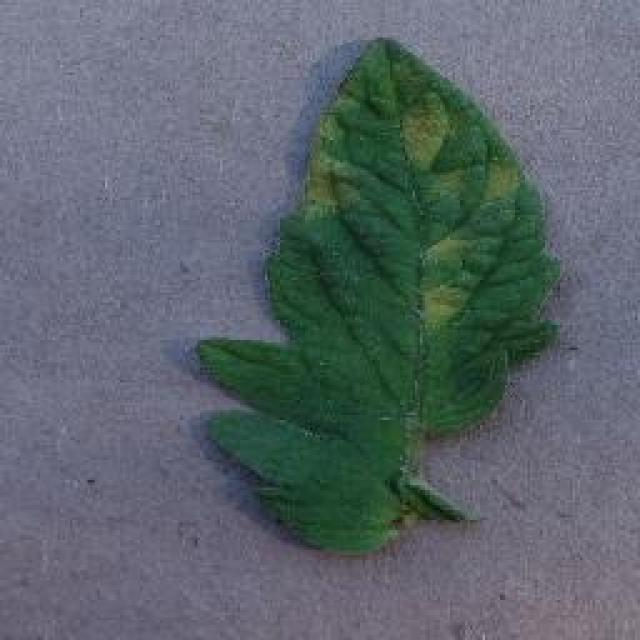Tomato mold leaf: (188, 36, 560, 554)
